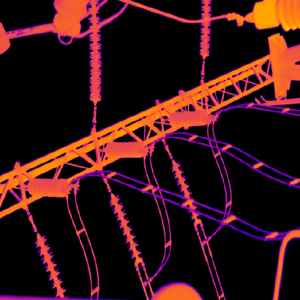insulator: (110, 191, 142, 263), (32, 229, 65, 296), (171, 157, 202, 223), (89, 0, 101, 104), (25, 174, 69, 198), (167, 106, 211, 128), (103, 140, 148, 158), (198, 0, 211, 57)
